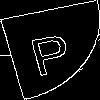P: (24, 24, 76, 77)
